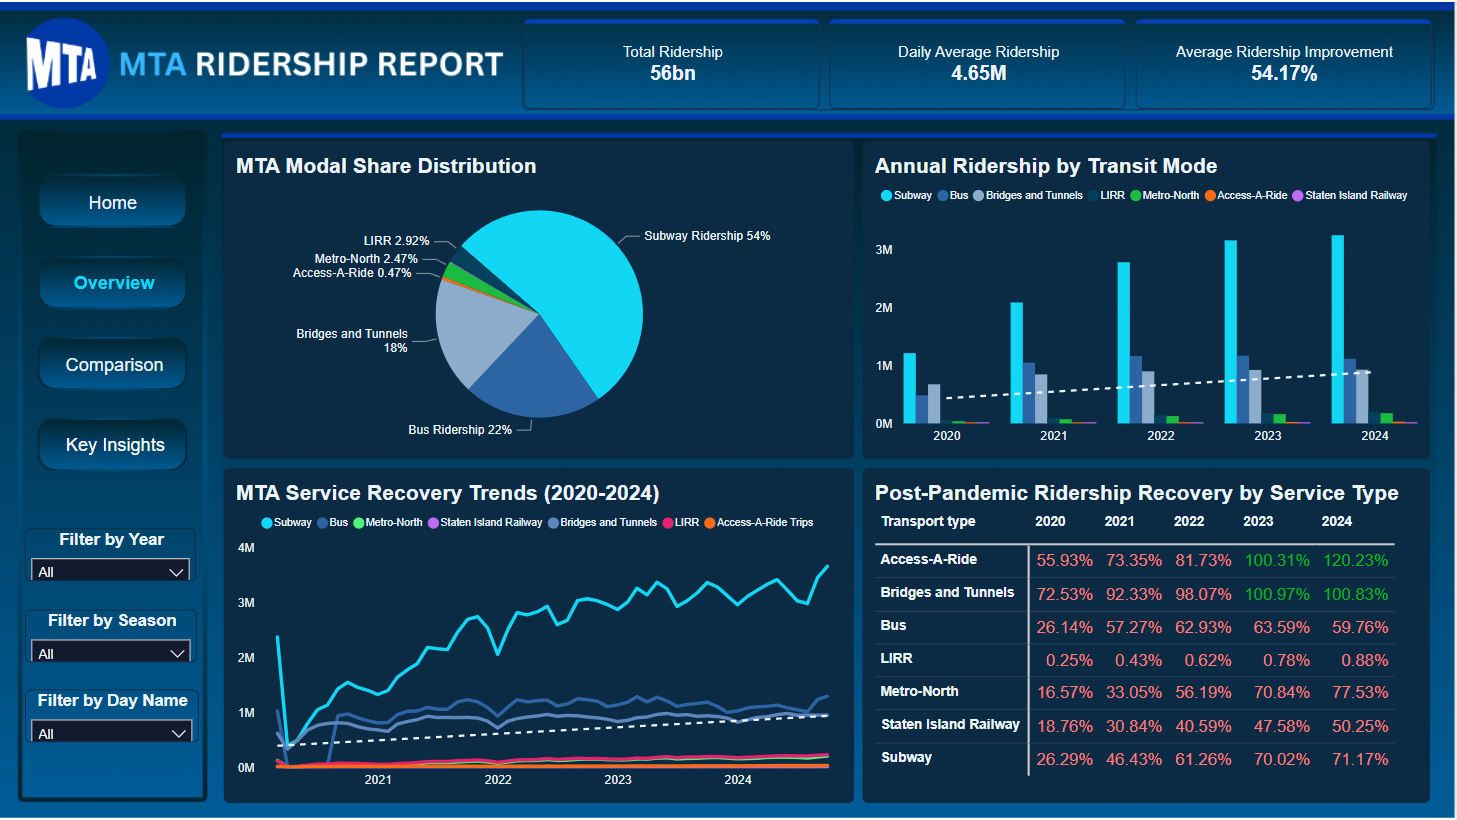

The page's visual inventory and layout, read from the dashboard file:
{"tool":"powerbi","page":{"name":"Overview","canvas":[1280,720],"ordinal":1},"visuals":[{"type":"lineClusteredColumnComboChart","title":"Annual Ridership by Transit Mode","fields":{"Y":["Avg(Transport_type.Subway Ridership)","Avg(Transport_type.Bus Ridership)","Avg(Transport_type.Bridges and Tunnels Traffic)","Avg(Transport_type.LIRR Ridership)","Avg(Transport_type.Metro-North Ridership)","Avg(Transport_type.Access-A-Ride Trips)","Avg(Transport_type.Staten Island Railway Ridership)"],"Category":["Dates.Date.Variation.Date Hierarchy.Year"]},"box":[759.1,121.8,499.1,280],"z":0},{"type":"lineChart","title":"MTA Service Recovery Trends (2020-2024)","fields":{"Category":["Dates.Date.Variation.Date Hierarchy.Year","Dates.Date.Variation.Date Hierarchy.Quarter","Dates.Date.Variation.Date Hierarchy.Month","Dates.Date.Variation.Date Hierarchy.Day"],"Y":["Avg(MTA_Daily_Ridership.Subway Ridership)","Avg(MTA_Daily_Ridership.Bus Ridership)","Avg(MTA_Daily_Ridership.Metro-North Ridership)","Avg(MTA_Daily_Ridership.Staten Island Railway Ridership)","Avg(MTA_Daily_Ridership.Bridges and Tunnels Traffic)","Avg(MTA_Daily_Ridership.LIRR Ridership)","Avg(MTA_Daily_Ridership.Access-A-Ride Trips)"]},"box":[196.4,410,554.5,294.5],"z":1000},{"type":"pieChart","title":"MTA Modal Share Distribution","fields":{"Y":["All Measures.Subway Ridership Percent","All Measures.Bus Ridership Percent","All Measures.Bridges and Tunnels Percent","All Measures.Access-A-Ride Percent","All Measures.Metro-North Percent","All Measures.Staten Island Railway Percent","All Measures.LIRR Percent"]},"box":[196.4,121.8,554.5,280],"z":2000},{"type":"pivotTable","title":"Post-Pandemic Ridership Recovery by Service Type","fields":{"Rows":["Transport_type.Transport type"],"Columns":["Dates.Year"],"Values":["Avg(Transport_type.% of pre-pandemic)"]},"box":[759.1,410,499.1,294.5],"z":3000},{"type":"actionButton","box":[49.3,156.3,99.5,40],"z":4000},{"type":"actionButton","box":[32.6,227.9,134.9,39.1],"z":5000},{"type":"actionButton","box":[26.1,298.6,148.9,40],"z":6000},{"type":"cardVisual","fields":{"Data":["Sum(Transport_type.Total Ridership)1","Avg(Transport_type.Total Ridership)","Avg(Transport_type.% of pre-pandemic)"]},"box":[459.9,14.8,802.3,80.5],"z":7000},{"type":"actionButton","box":[33.7,370.5,134.7,38.9],"z":8000},{"type":"slicer","title":"Filter by Year","fields":{"Values":["Dates.Year"]},"box":[22.5,462.8,150.5,46.3],"z":9000},{"type":"slicer","title":"Filter by Season","fields":{"Values":["Dates.Season"]},"box":[22.5,533.9,151.6,46.3],"z":10000},{"type":"slicer","title":"Filter by Day Name","fields":{"Values":["Dates.Day Name"]},"box":[22.5,605.1,152.6,46.3],"z":11000}]}

Visuals, with their boxes in screenshot pixels (x1, y1, x2, y2), scaled from the page's 1280x720 canvas onto the 1457x820 screenshot:
"Annual Ridership by Transit Mode" lineClusteredColumnComboChart: (864,139,1432,458)
"MTA Service Recovery Trends (2020-2024)" lineChart: (224,467,855,802)
"MTA Modal Share Distribution" pieChart: (224,139,855,458)
"Post-Pandemic Ridership Recovery by Service Type" pivotTable: (864,467,1432,802)
actionButton: (56,178,169,224)
actionButton: (37,260,191,304)
actionButton: (30,340,199,386)
cardVisual - Sum(Transport_type.Total Ridership)1 x Avg(Transport_type.Total Ridership): (523,17,1437,109)
actionButton: (38,422,192,466)
"Filter by Year" slicer: (26,527,197,580)
"Filter by Season" slicer: (26,608,198,661)
"Filter by Day Name" slicer: (26,689,199,742)
